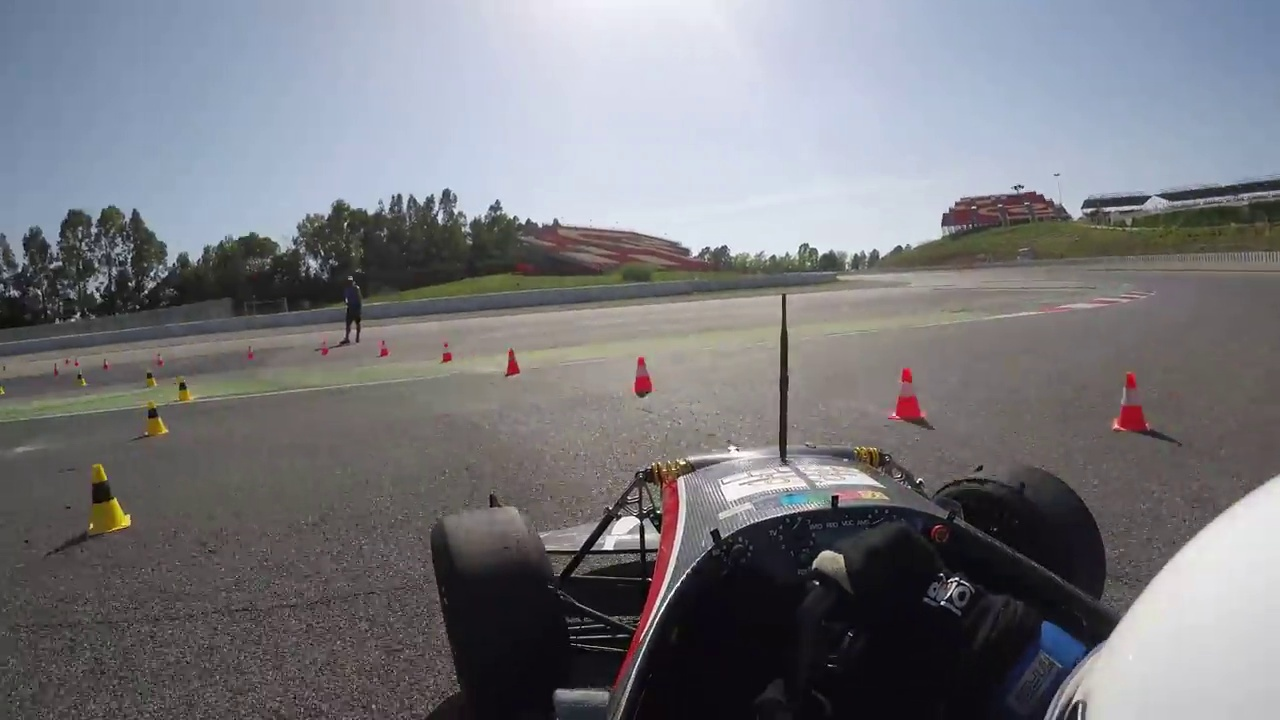Cone: (85, 462, 129, 538), (1113, 371, 1154, 436), (893, 366, 926, 420), (144, 399, 170, 439), (632, 356, 656, 398)
